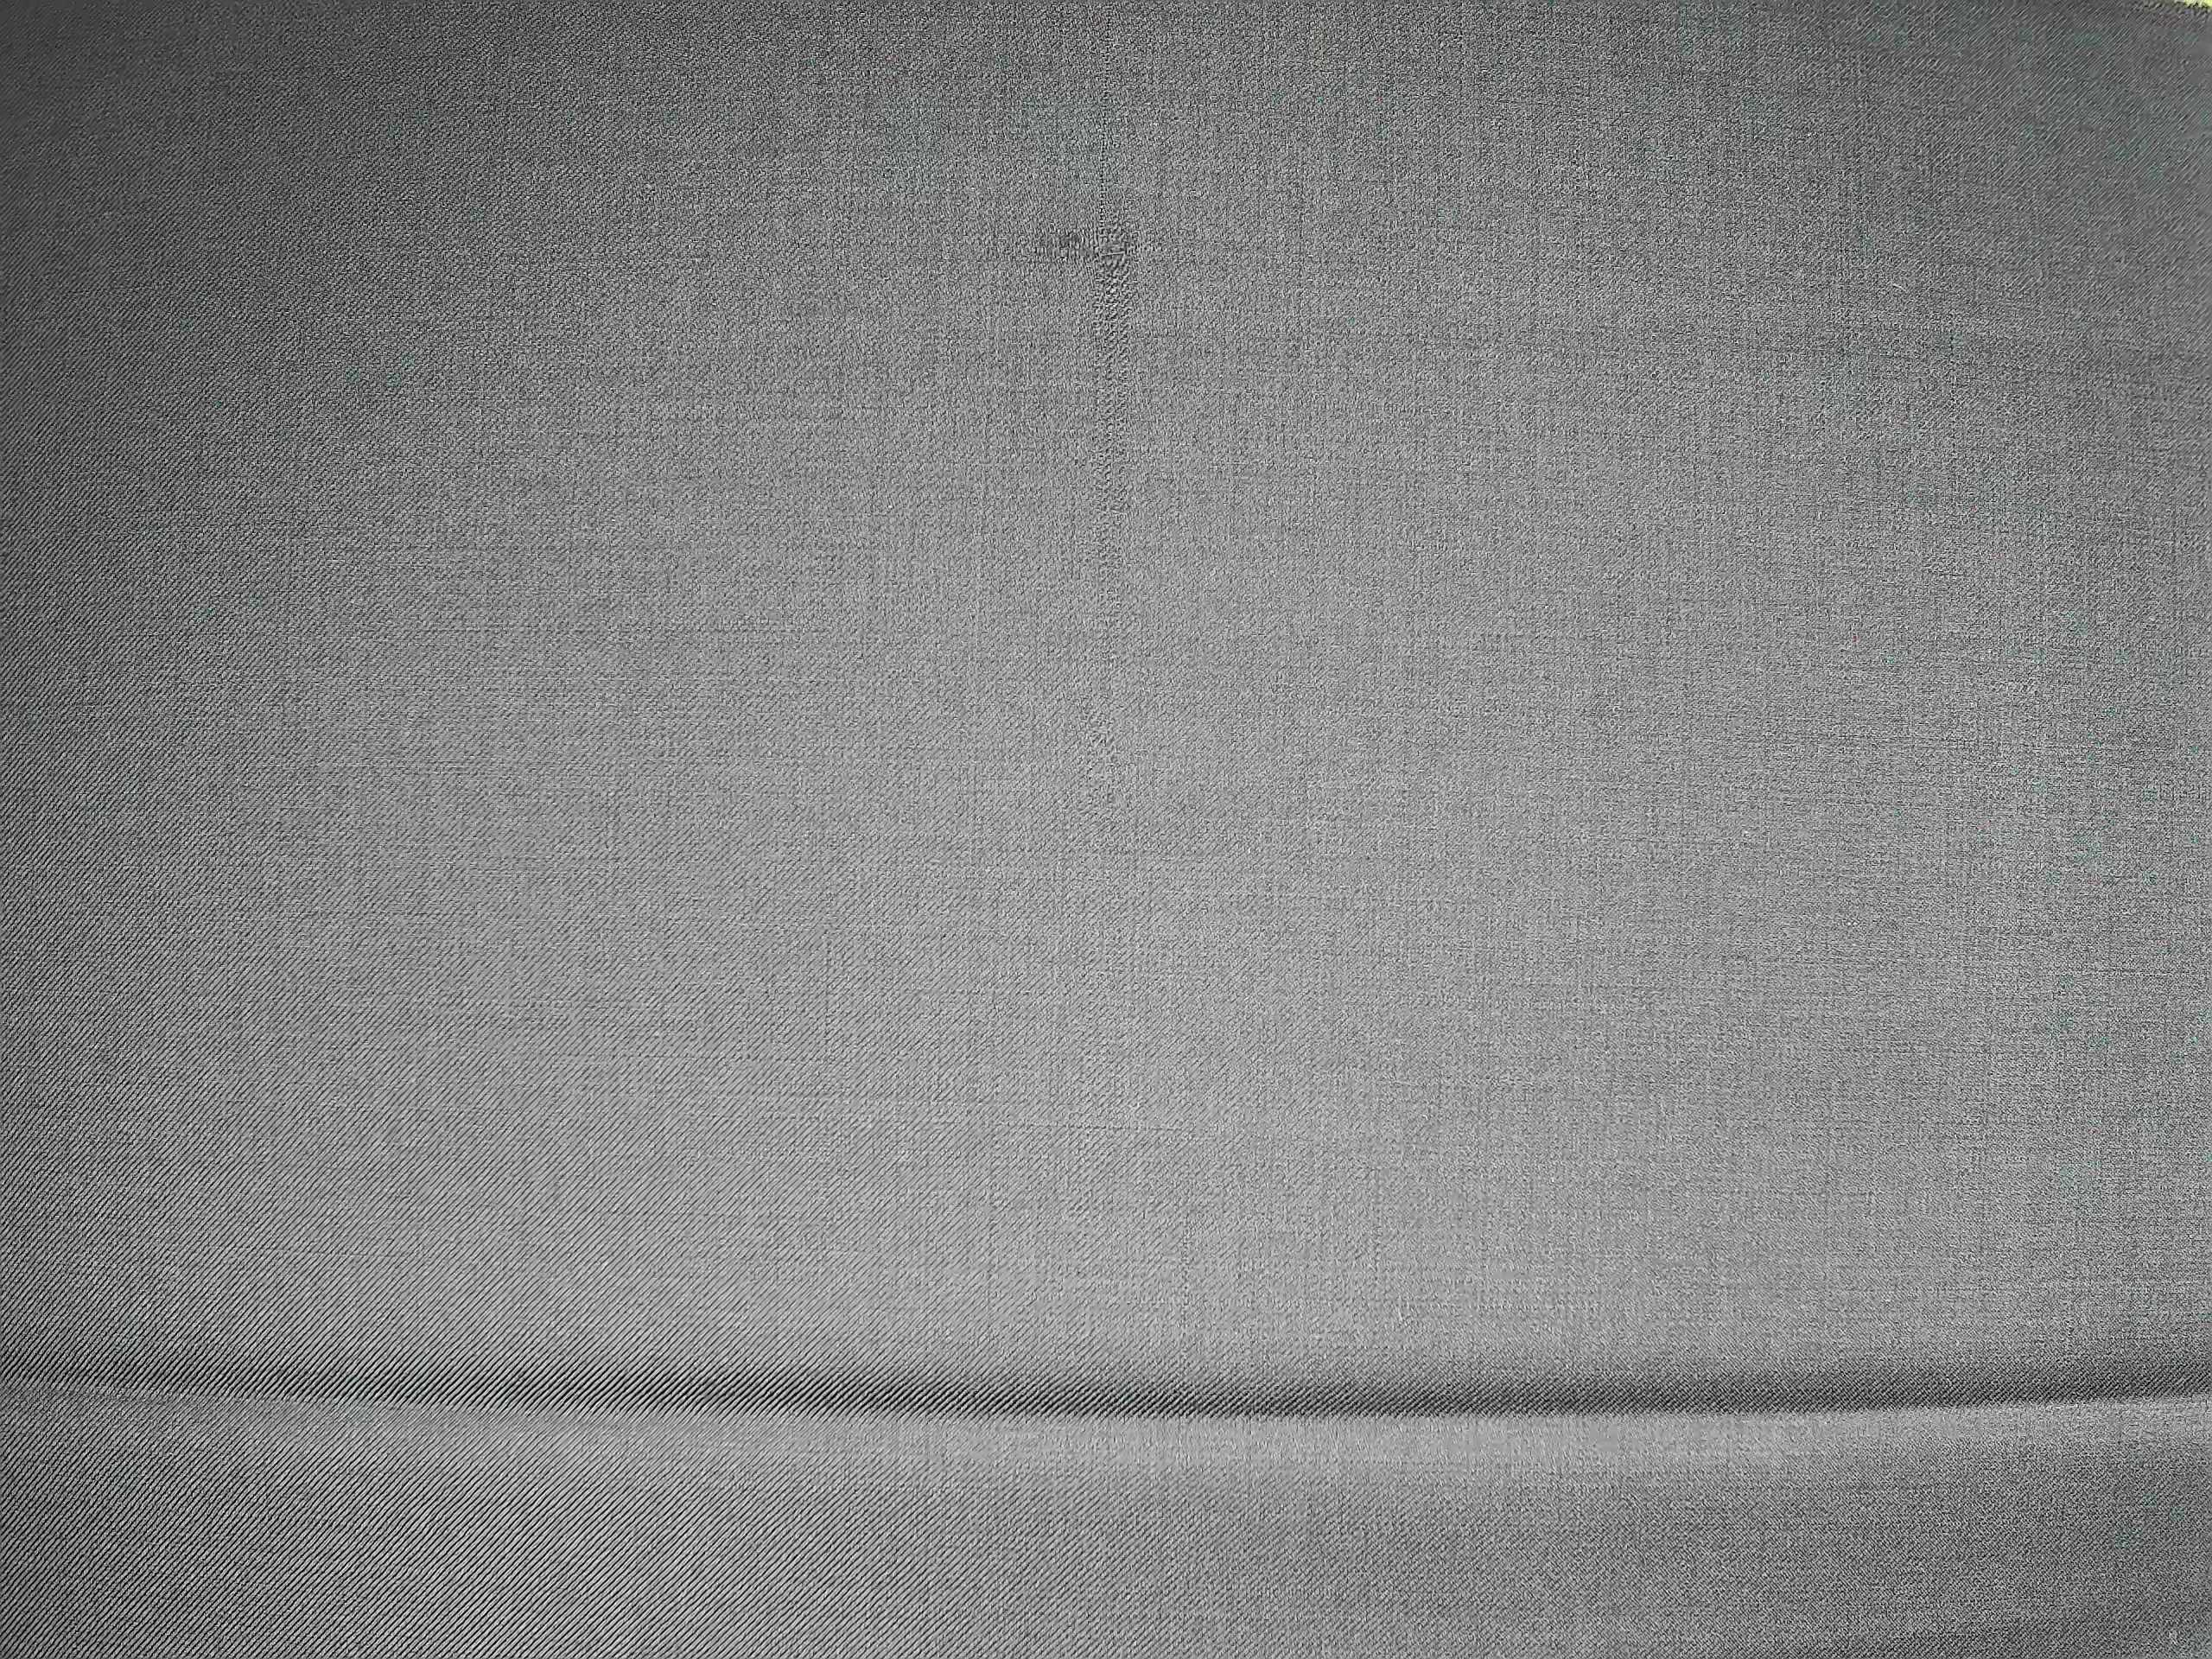hanging-warp: (1028, 197, 1143, 817)
